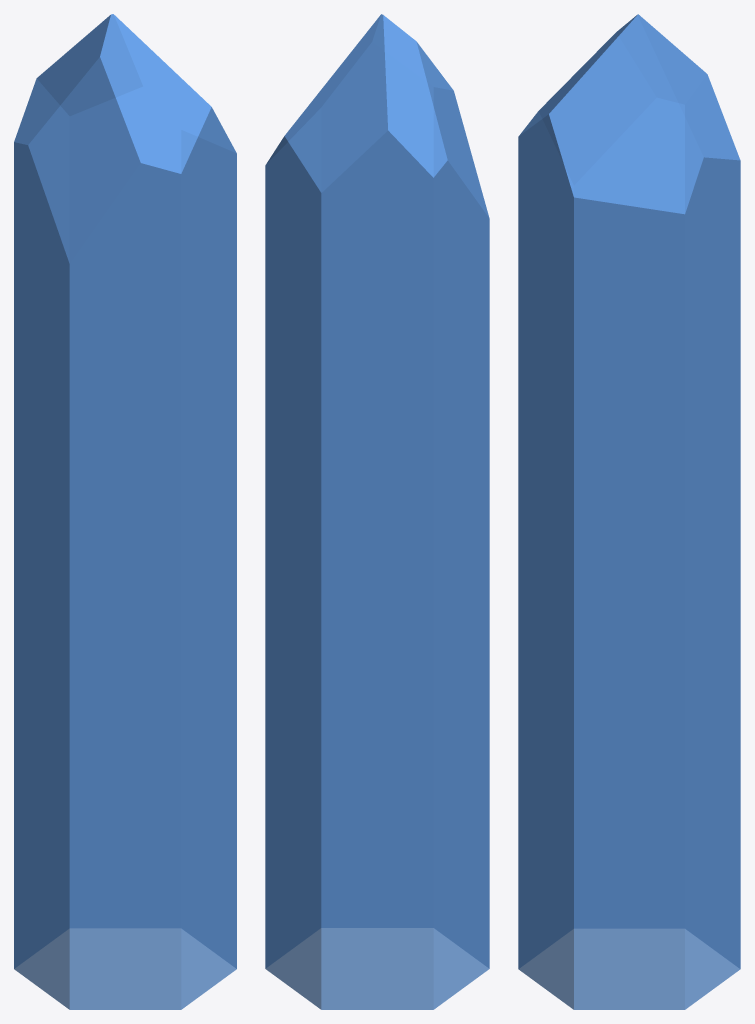
Rendered from Crystal_m_09.fbx.
3 views of the same model, side by side, from view 1: azimuth 30°, elevation 25°; view 2: azimuth 150°, elevation 25°; view 3: azimuth 270°, elevation 25° (orthographic).
Parts seen in each view (by area): view 1: Crystal_m_09; view 2: Crystal_m_09; view 3: Crystal_m_09.
Boxes of the visible parts, x1,y1,x2,y2 form: Crystal_m_09: [14, 14, 236, 1009]; Crystal_m_09: [265, 14, 489, 1009]; Crystal_m_09: [518, 14, 740, 1009].
Size of the model in its own units: 37.83 by 206 by 43.68.
